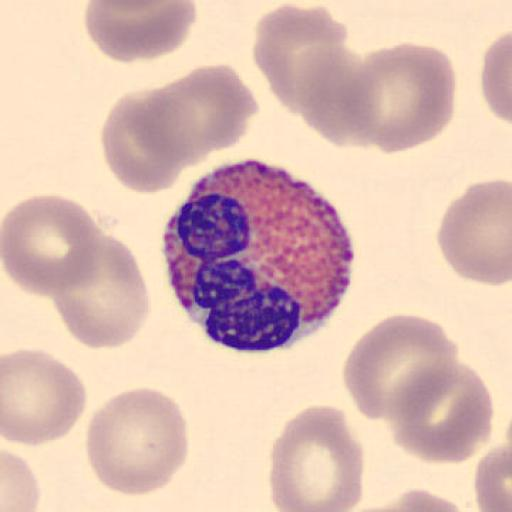RBC: (100, 63, 258, 191), (251, 2, 383, 149), (127, 62, 260, 172), (342, 312, 462, 424), (346, 40, 458, 154), (47, 231, 151, 350), (384, 358, 494, 466), (85, 386, 191, 496), (252, 2, 350, 112), (268, 403, 366, 512), (2, 193, 102, 296), (292, 44, 380, 149), (100, 92, 189, 194), (2, 348, 88, 448), (436, 177, 512, 287), (83, 0, 198, 63), (342, 486, 475, 512), (479, 28, 512, 129), (73, 0, 207, 21), (473, 440, 512, 512), (1, 445, 41, 512)
WBC: (162, 157, 359, 355)
